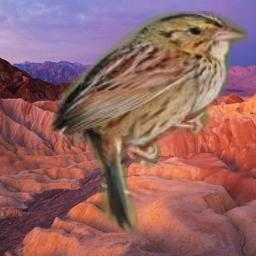Sparrow: (47, 11, 248, 238)
